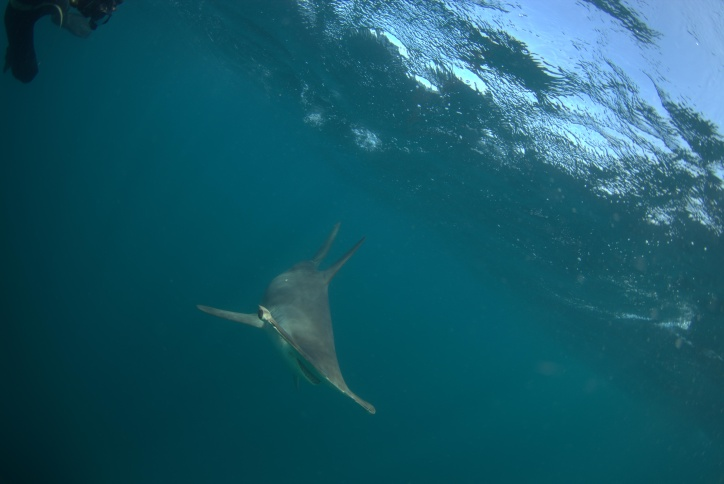Hammer: (161, 196, 400, 432)
